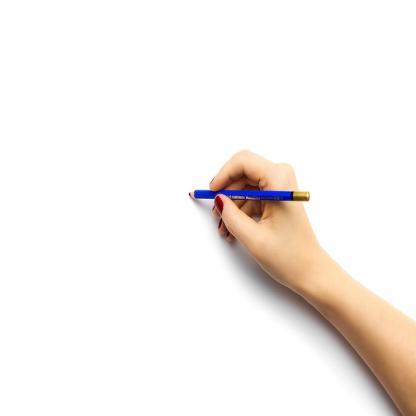pencil: (186, 189, 313, 207)
